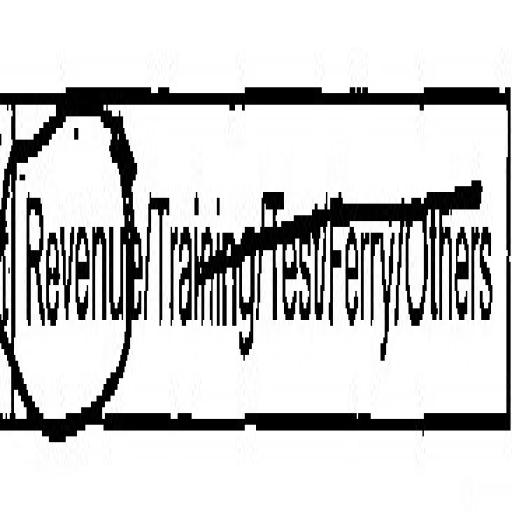check: (0, 0, 148, 458)
